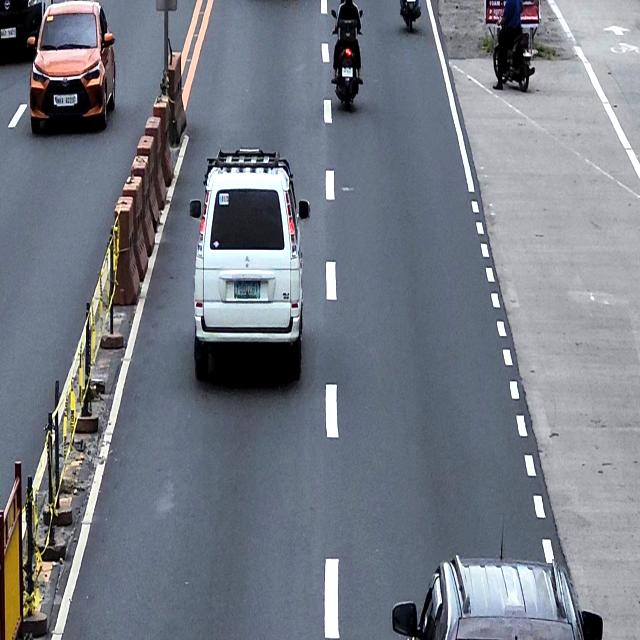Car: (189, 147, 311, 377), (392, 554, 604, 640), (28, 0, 116, 133), (0, 0, 55, 67)
License-Plate: (233, 279, 261, 300), (52, 92, 79, 107), (0, 27, 18, 39), (342, 66, 354, 78)
Motorcycle: (489, 21, 535, 92), (331, 8, 363, 108), (400, 0, 421, 33)
